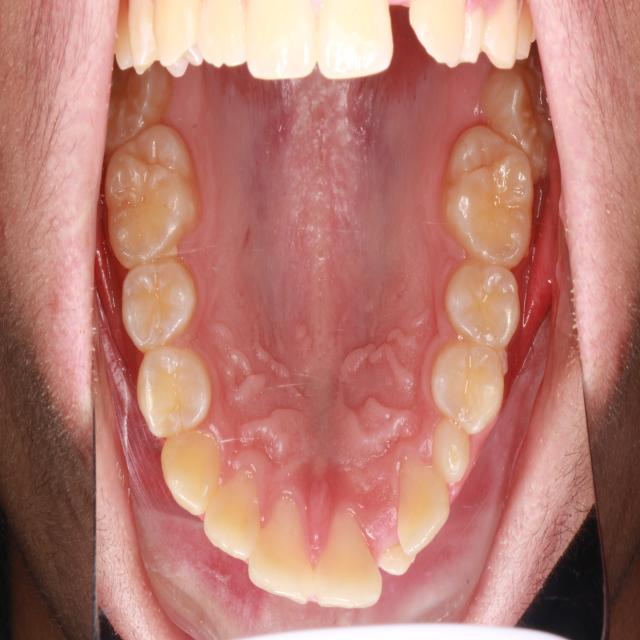tooth: (435, 116, 541, 280), (104, 126, 215, 278), (113, 247, 212, 375), (304, 487, 394, 625), (238, 489, 329, 619), (417, 334, 512, 447), (433, 250, 531, 356), (130, 334, 225, 442), (475, 63, 556, 184), (156, 422, 232, 524), (391, 449, 455, 568), (203, 470, 269, 573), (107, 63, 174, 143), (427, 407, 476, 496), (368, 522, 420, 596)
